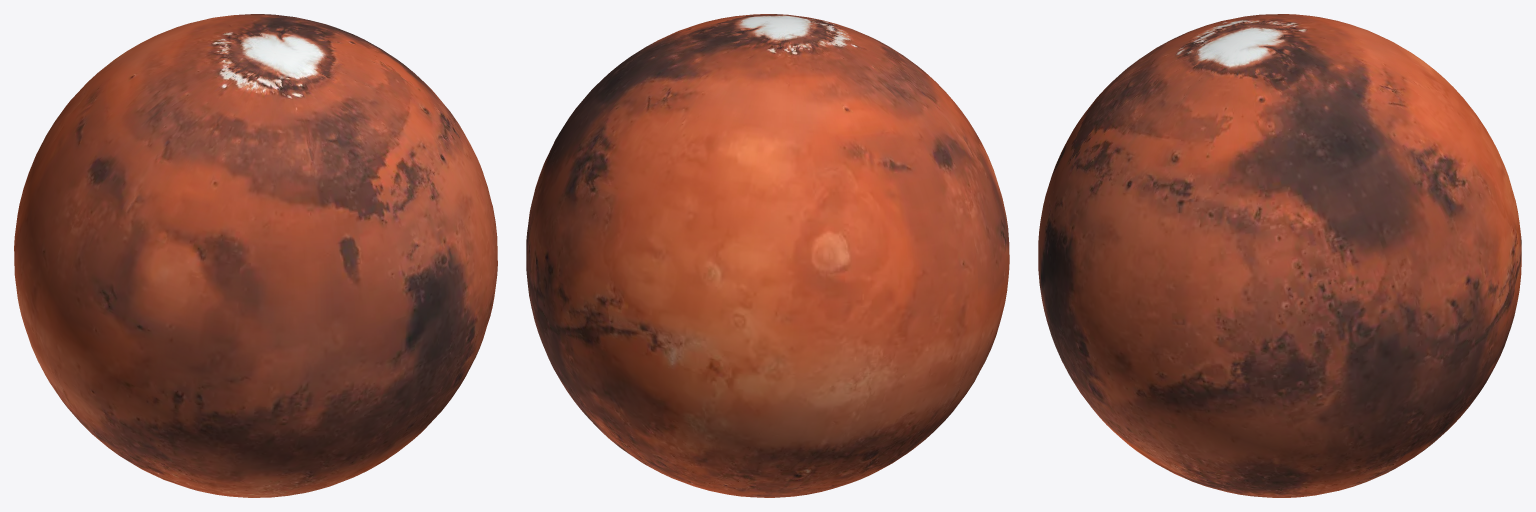
The model's file is mars.glb.
3 views of the same model, side by side, from view 1: azimuth 30°, elevation 25°; view 2: azimuth 150°, elevation 25°; view 3: azimuth 270°, elevation 25° (orthographic).
Visible parts, largest first — view 1: mars_1; view 2: mars_1; view 3: mars_1.
Part boxes in pixels (x1,y1,x2,y2): mars_1: (14,14,497,497); mars_1: (526,14,1009,497); mars_1: (1038,14,1521,497).
Size of the model in its own units: 5.09 by 5.09 by 5.09.
Materials: 1 (1 with a texture image).
